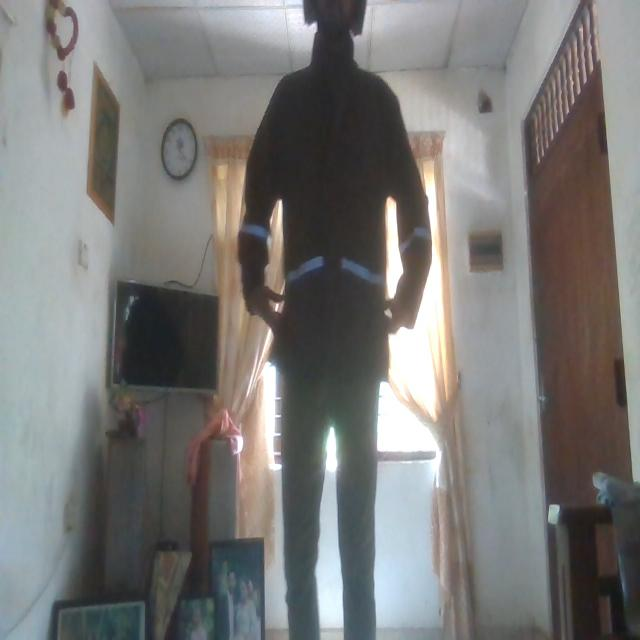Helmet_Wearer: (298, 0, 370, 42)
Jacket_Wearer: (247, 63, 430, 397)
Person: (246, 0, 432, 640)
